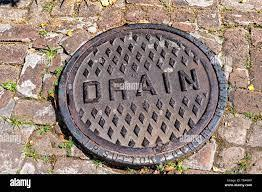closed manhole-not overflowing-: (53, 22, 230, 169)
